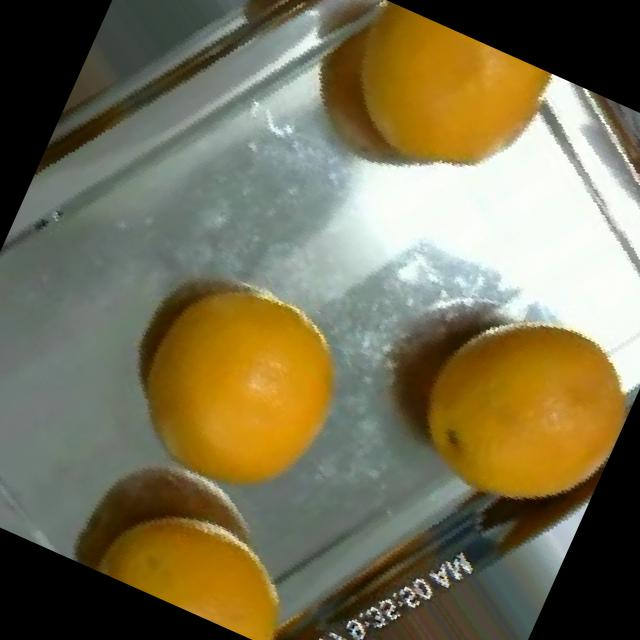Fruit: (565, 104, 640, 287)
